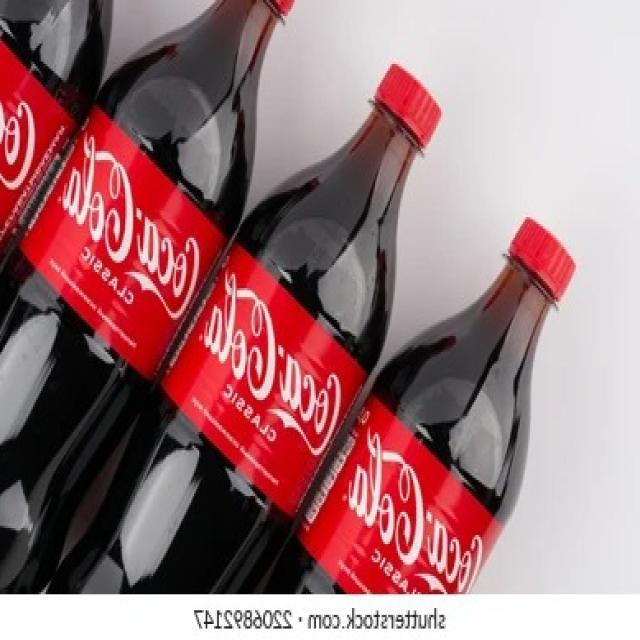coca cola: (61, 124, 203, 319), (206, 264, 344, 460), (349, 419, 489, 598)
